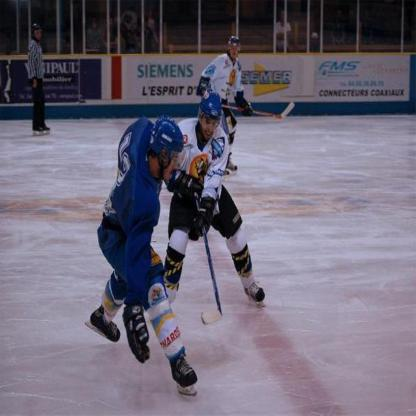face: (162, 147, 179, 182), (202, 116, 217, 140), (230, 41, 239, 59), (36, 30, 42, 41), (281, 13, 287, 22), (336, 12, 342, 21)
